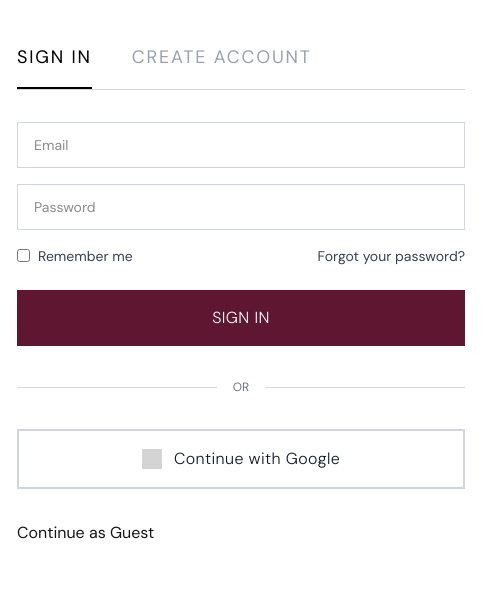
Test: Login Page › Create Account interactions › shows an error when terms are not agreed to
Click the tab "CREATE ACCOUNT" at (222, 66), box [132, 43, 312, 89]
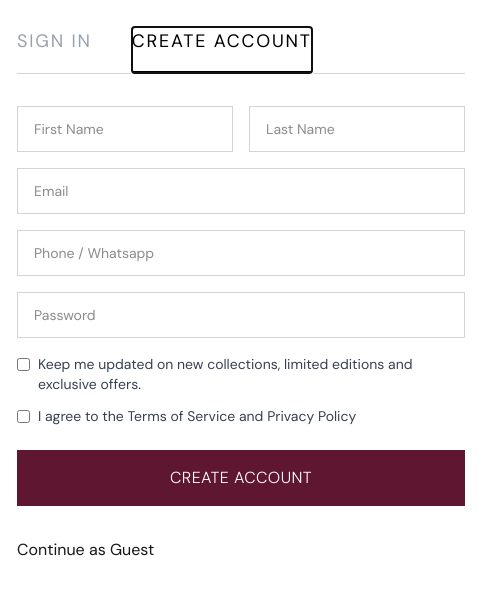
Type "Jane" into the field with placeholder "First Name" at (125, 128), box [17, 106, 233, 152]
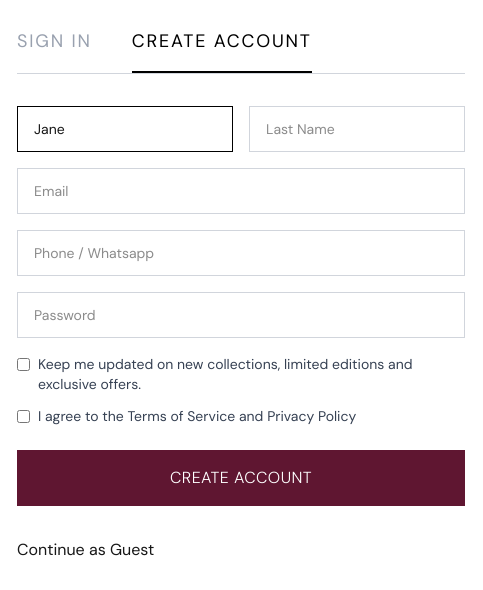
Type "Doe" into the field with placeholder "Last Name" at (357, 128), box [249, 106, 465, 152]
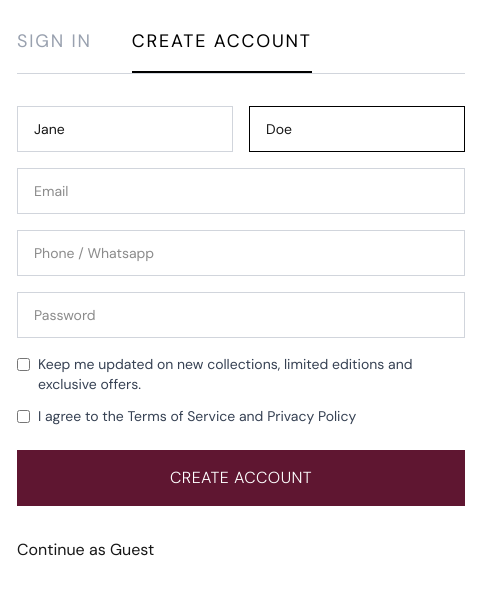
Type "jane@example.com" into the field with placeholder "Email" at (241, 190), box [17, 168, 465, 214]
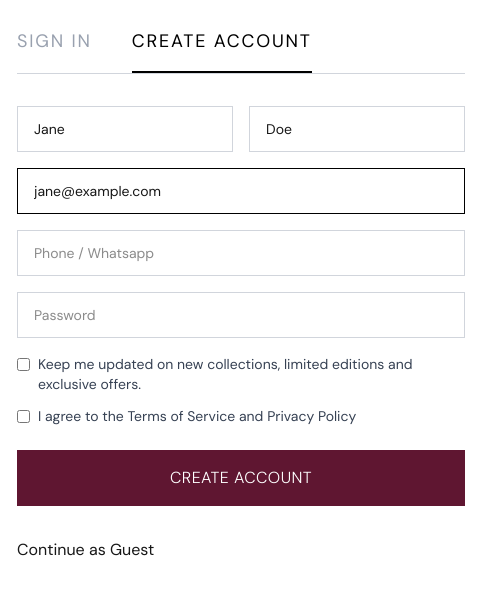
Type "password123" into the password field with placeholder "Password" at (241, 314), box [17, 292, 465, 338]
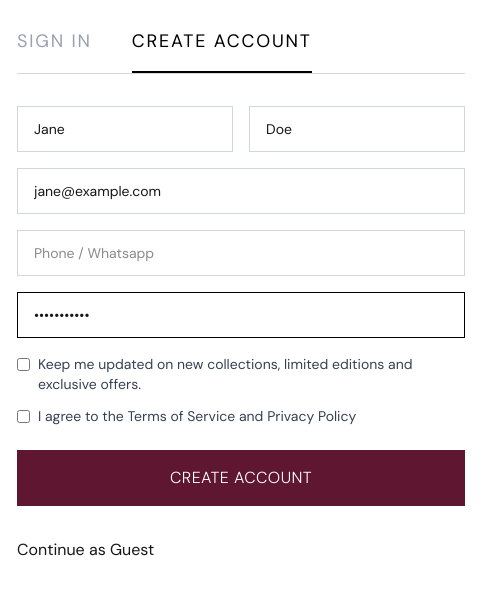
Click the button "CREATE ACCOUNT" at (241, 478), box [17, 450, 465, 506]
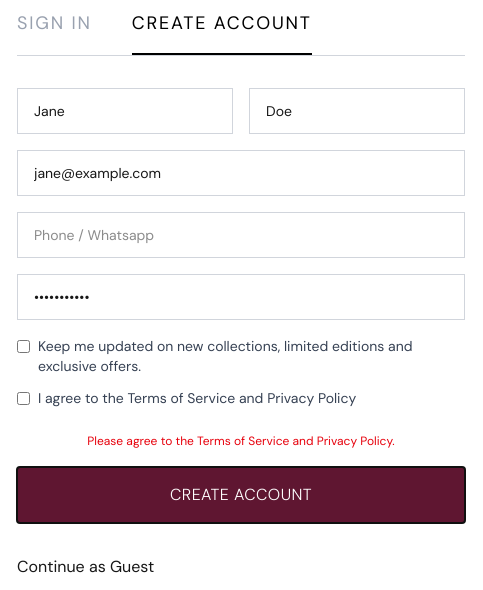
Result: the text "Please agree to the Terms of Service and Privacy Policy." is shown at [87, 433, 395, 449]
